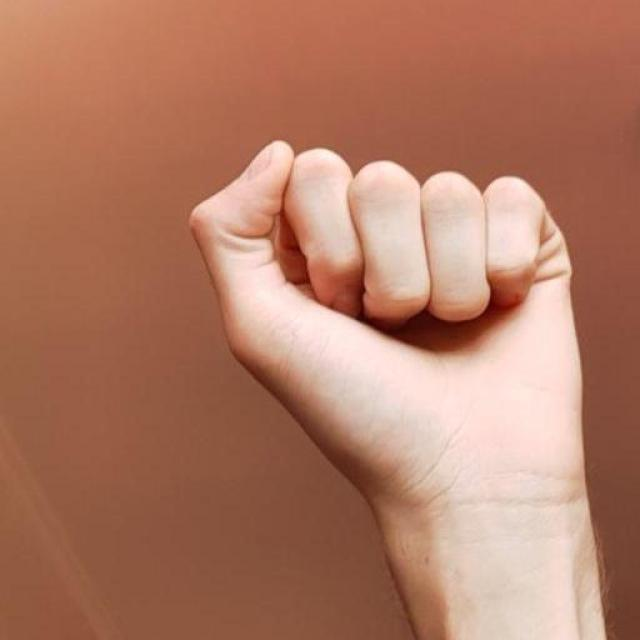hand: (186, 137, 592, 518)
